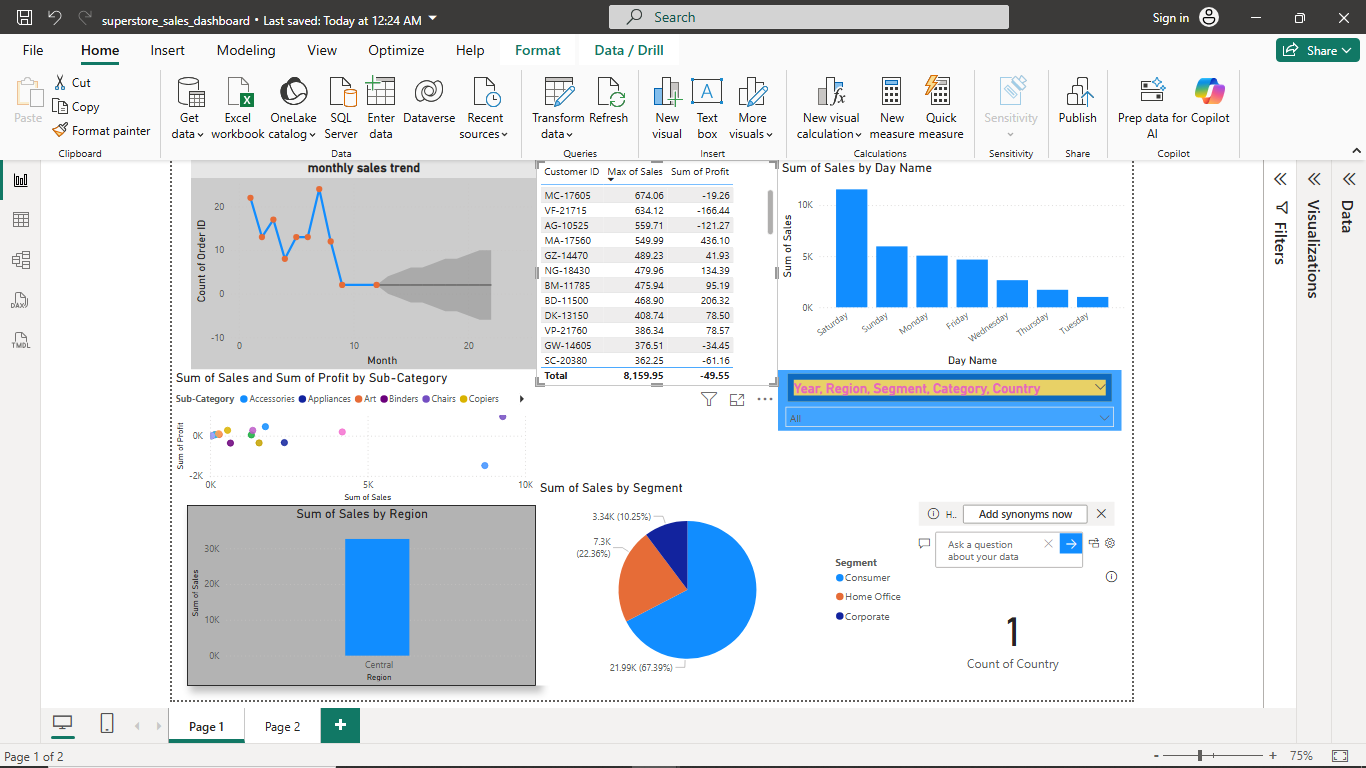

What the dashboard file says about the page in this screenshot:
{"tool":"powerbi","page":{"name":"Page 1","canvas":[1280,720],"ordinal":0},"visuals":[{"type":"lineChart","title":"monthly sales trend","fields":{"Category":["Superstore_cleaned.Month"],"Y":["CountNonNull(Superstore_cleaned.Order ID)"]},"box":[24.8,0,461.1,279.4],"z":0},{"type":"clusteredColumnChart","fields":{"Category":["Superstore_cleaned.Region"],"Y":["Sum(Superstore_cleaned.Sales)"]},"box":[20.6,459.7,465.2,240.9],"z":2},{"type":"pieChart","fields":{"Y":["Sum(Superstore_cleaned.Sales)"],"Category":["Superstore_cleaned.Segment"]},"box":[485.8,426.7,501,273.9],"z":3},{"type":"scatterChart","fields":{"Y":["Sum(Superstore_cleaned.Profit)"],"X":["Sum(Superstore_cleaned.Sales)"],"Series":["Superstore_cleaned.Sub-Category"]},"box":[0,279.4,485.8,180.3],"z":4},{"type":"tableEx","fields":{"Values":["Superstore_cleaned.Customer ID","Max(Superstore_cleaned.Sales)","Sum(Superstore_cleaned.Profit)"]},"box":[485.8,0,322.1,301.4],"z":5},{"type":"clusteredColumnChart","fields":{"Category":["Superstore_cleaned.Day Name"],"Y":["Sum(Superstore_cleaned.Sales)"]},"box":[807.9,0,468,279.4],"z":6},{"type":"slicer","fields":{"Values":["Superstore_cleaned.Year","Superstore_cleaned.Region","Superstore_cleaned.Segment","Superstore_cleaned.Category","Superstore_cleaned.Country"]},"box":[807.9,279.4,458.3,81.2],"z":7},{"type":"qnaVisual","box":[986.8,443.2,279.4,273.9],"z":8}]}

Visuals, with their boxes on the page's 1280x720 design canvas (x1, y1, x2, y2). These are canvas units, not pixel positions in the 1366x768 screenshot, which may show the page scaled, cropped or inside an application window:
"monthly sales trend" lineChart: [left=25, top=0, right=486, bottom=279]
clusteredColumnChart - Superstore_cleaned.Region x Sum(Superstore_cleaned.Sales): [left=21, top=460, right=486, bottom=701]
pieChart - Sum(Superstore_cleaned.Sales) x Superstore_cleaned.Segment: [left=486, top=427, right=987, bottom=701]
scatterChart - Sum(Superstore_cleaned.Profit) x Sum(Superstore_cleaned.Sales): [left=0, top=279, right=486, bottom=460]
tableEx - Superstore_cleaned.Customer ID x Max(Superstore_cleaned.Sales): [left=486, top=0, right=808, bottom=301]
clusteredColumnChart - Superstore_cleaned.Day Name x Sum(Superstore_cleaned.Sales): [left=808, top=0, right=1276, bottom=279]
slicer - Superstore_cleaned.Year x Superstore_cleaned.Region: [left=808, top=279, right=1266, bottom=361]
qnaVisual: [left=987, top=443, right=1266, bottom=717]
